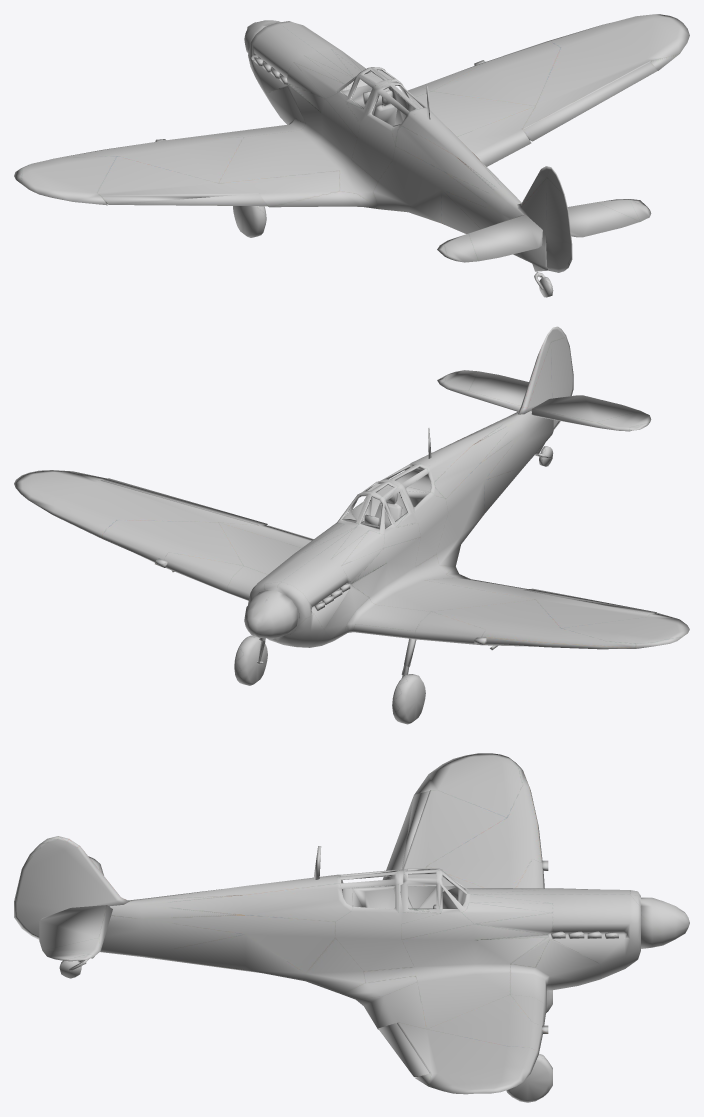
File: fighter_v1.glb
3 renders of one model, top to bottom at view 1: azimuth 30°, elevation 25°; view 2: azimuth 150°, elevation 25°; view 3: azimuth 270°, elevation 25°, orthographic. The views are drawn at different scales.
Visible parts, largest first — view 1: tripo_node_0d454de6; view 2: tripo_node_0d454de6; view 3: tripo_node_0d454de6.
Boxes of the visible parts, left/top/right/bottom form: tripo_node_0d454de6: left=14, top=14, right=689, bottom=297; tripo_node_0d454de6: left=14, top=326, right=689, bottom=724; tripo_node_0d454de6: left=14, top=753, right=689, bottom=1102.
Size of the model in its own units: 11.98 by 3.68 by 10.05.
Materials: 1 (1 with a texture image).
